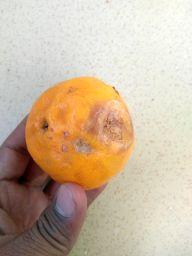Ripe: (25, 77, 136, 191)
